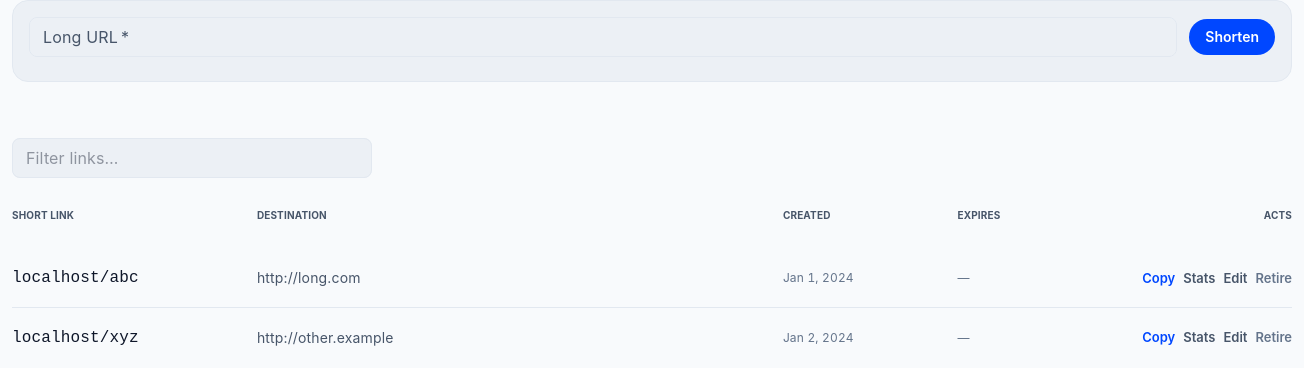
Test: DashboardPage › narrowing › restores the whole set when the fragment is cleared
Expected: the element with test id "link-row-abc" is shown, [12, 265, 1292, 291]
Step 1. Type "long" into the field with test id "narrow-links" → (192, 158), box [12, 138, 372, 178]
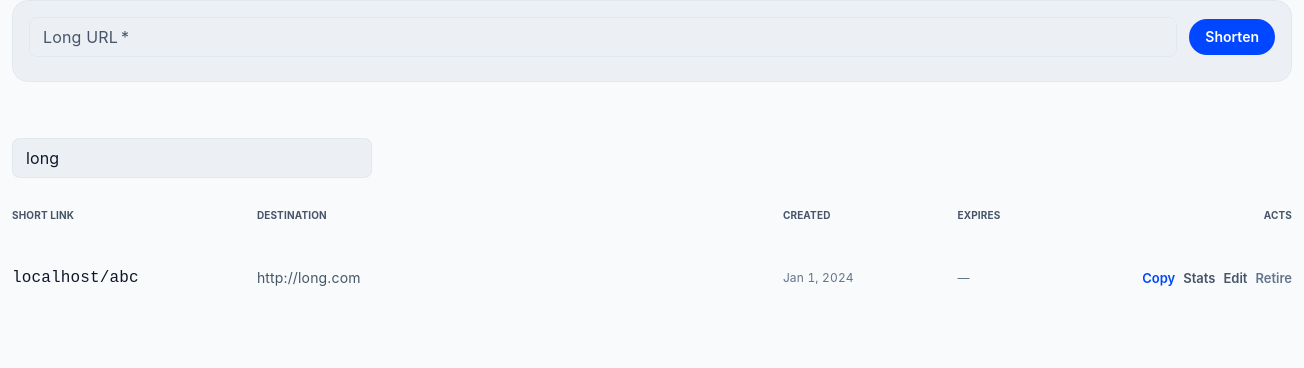
Now the element with test id "link-row-xyz" is gone
Step 2. Clear the field with test id "narrow-links" → (192, 158), box [12, 138, 372, 178]
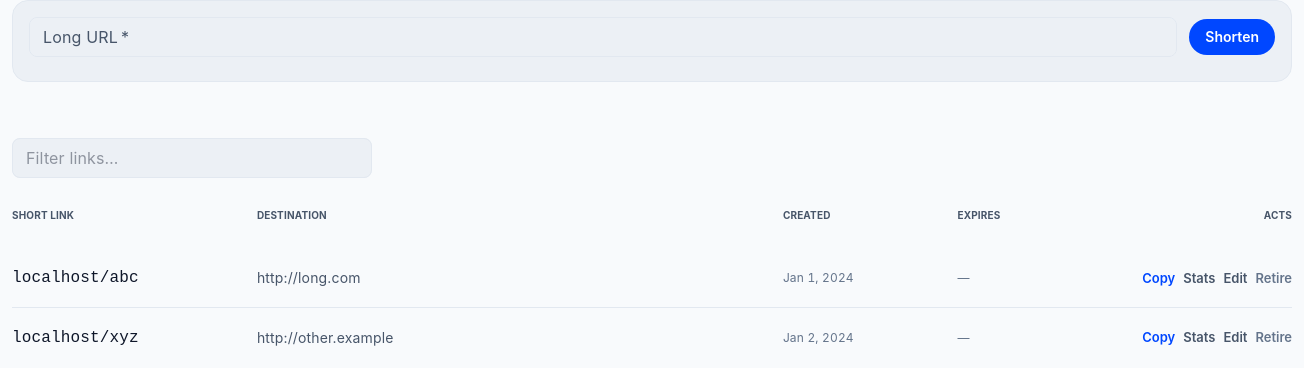
Expected: the element with test id "link-row-abc" is shown, [12, 265, 1292, 291]
Now the element with test id "link-row-xyz" is shown, box [12, 324, 1292, 351]
